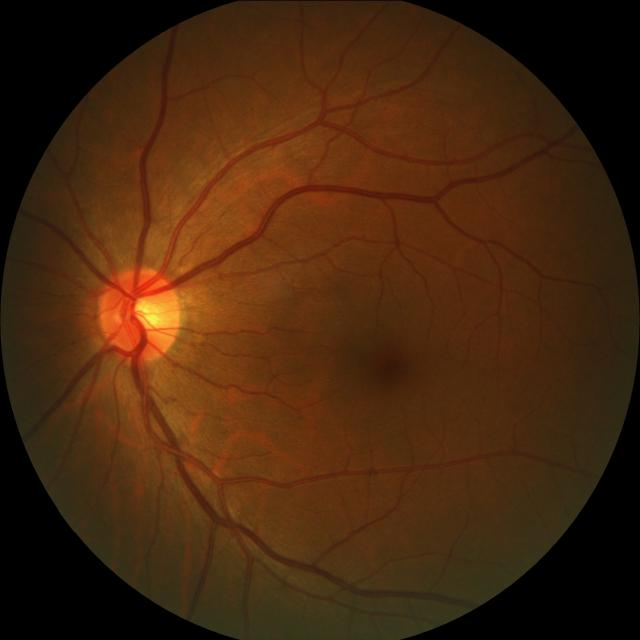OC: (125, 292, 167, 332)
OD: (100, 266, 184, 362)
